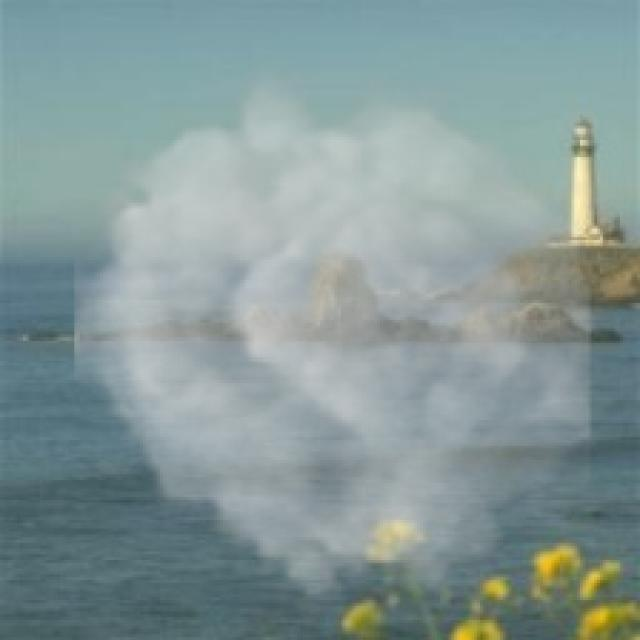smoke: (74, 60, 592, 620)
